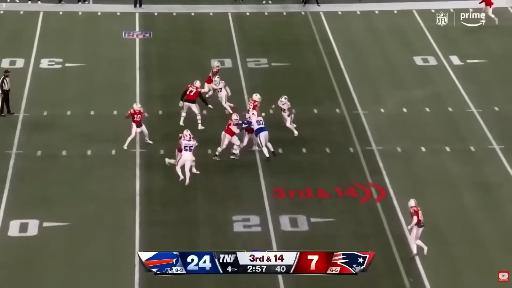Helmet: (183, 130, 192, 140), (249, 110, 258, 120), (408, 199, 417, 207), (252, 94, 261, 101), (213, 76, 220, 84), (232, 114, 239, 122), (134, 103, 141, 110), (280, 96, 288, 102), (214, 62, 220, 69), (194, 81, 200, 87)
Jersey: (184, 85, 201, 103), (181, 139, 196, 159), (251, 117, 266, 136), (410, 207, 423, 227), (224, 120, 239, 137), (129, 109, 143, 127), (212, 81, 226, 95), (206, 68, 218, 84), (279, 102, 291, 116), (248, 99, 259, 113), (480, 0, 493, 7), (246, 126, 254, 133)
Player: (180, 81, 212, 129), (123, 103, 152, 149), (250, 111, 275, 160), (176, 130, 198, 185), (214, 114, 240, 159), (408, 199, 427, 256), (207, 76, 233, 113), (165, 130, 189, 165), (278, 96, 298, 136), (166, 134, 182, 165), (204, 62, 220, 91), (480, 0, 498, 24), (240, 126, 258, 150), (248, 94, 261, 113)
